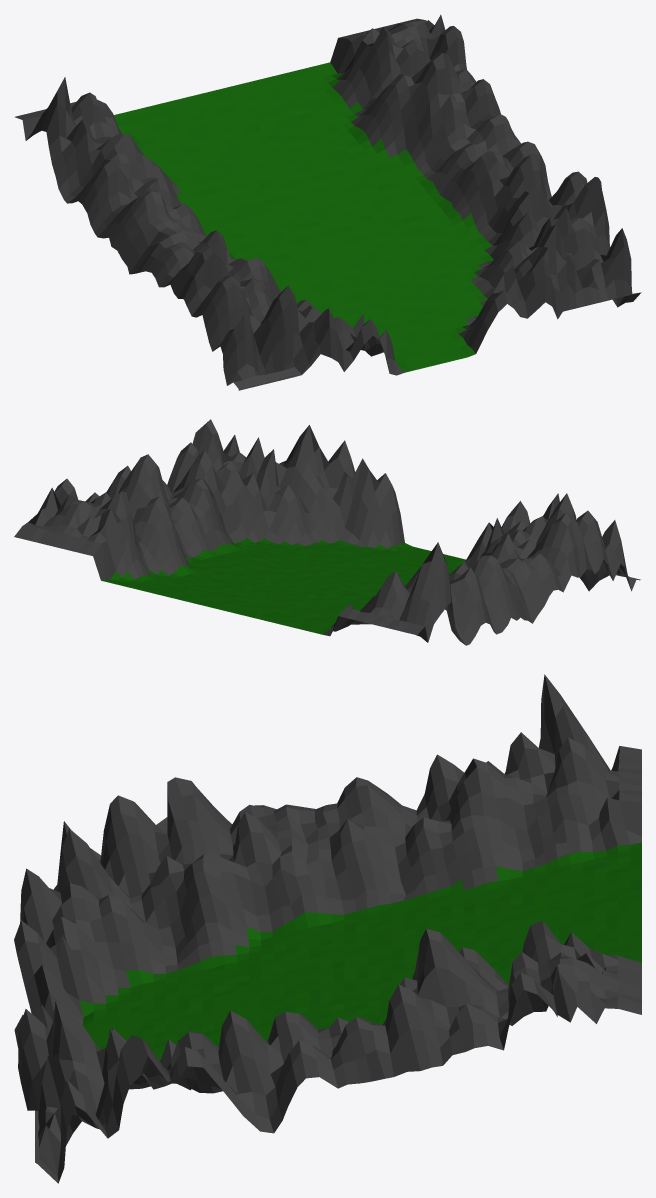
File: HillEnd.fbx
3 views of the same model, one above another, from view 1: azimuth 30°, elevation 25°; view 2: azimuth 150°, elevation 25°; view 3: azimuth 270°, elevation 25° (orthographic). The views are drawn at different scales.
Visible parts, largest first — view 1: HillPart1; view 2: HillPart1; view 3: HillPart1.
Boxes of the visible parts, bbox=[...] form: HillPart1: bbox=[15, 14, 641, 390]; HillPart1: bbox=[14, 419, 640, 645]; HillPart1: bbox=[14, 674, 641, 1183].
Bounding box in the file's own units: 15106 × 6968 × 14989.
